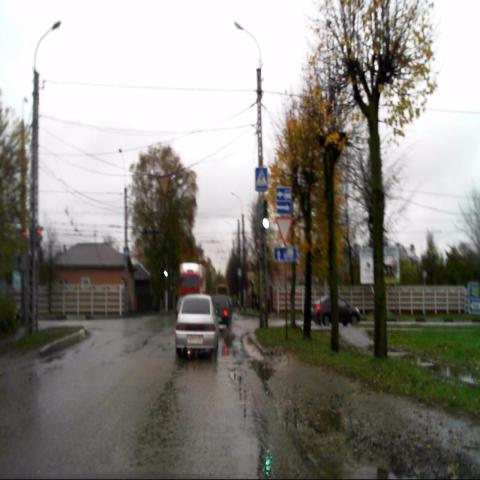6_15_1: (274, 247, 296, 263)
